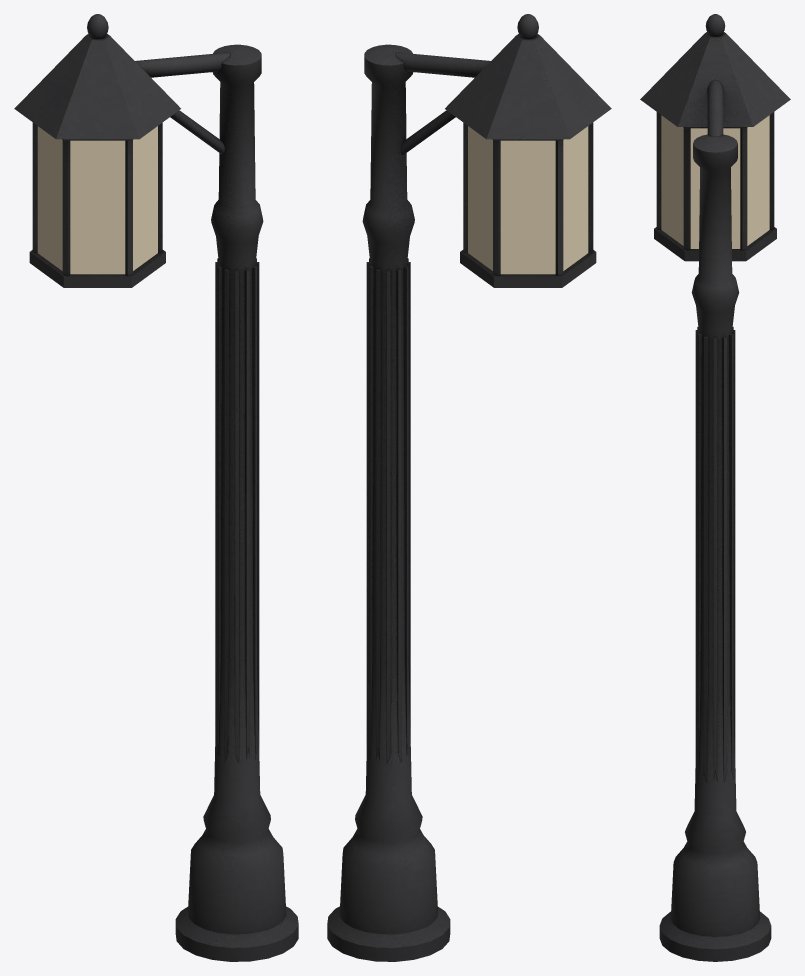
The model's file is lamp.glb.
3 views of the same model, side by side, from view 1: azimuth 30°, elevation 25°; view 2: azimuth 150°, elevation 25°; view 3: azimuth 270°, elevation 25° (orthographic). The views are drawn at different scales.
Visible parts, largest first — view 1: arm, glass; view 2: arm, glass; view 3: arm, glass.
Part boxes in pixels (x1,y1,x2,y2): arm: (14, 14, 298, 961); glass: (37, 126, 157, 274); arm: (327, 14, 611, 961); glass: (468, 126, 588, 274); arm: (640, 14, 790, 961); glass: (661, 115, 769, 248).
Size of the model in its own units: 0.9538 by 3.41 by 0.54.
2 materials, 1 textured.
